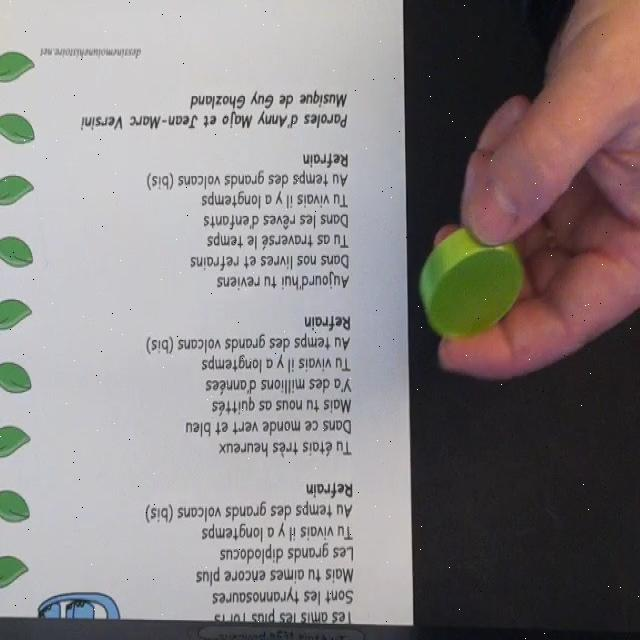round: (418, 228, 525, 340)
